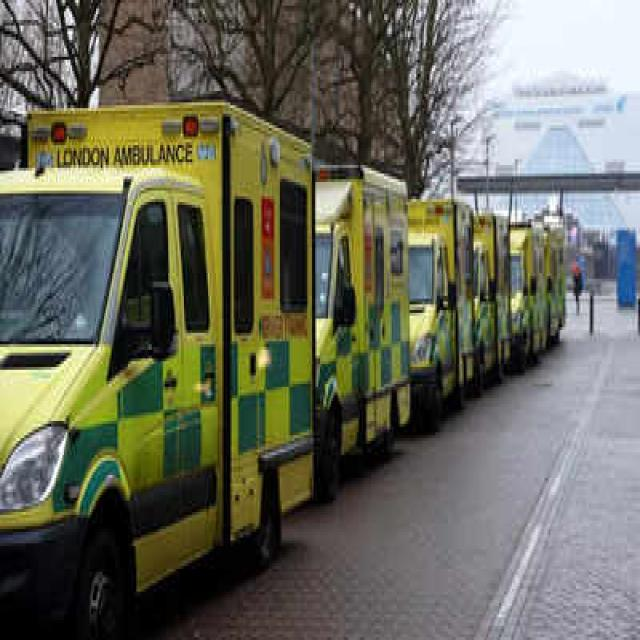emergency: (0, 104, 315, 634)
